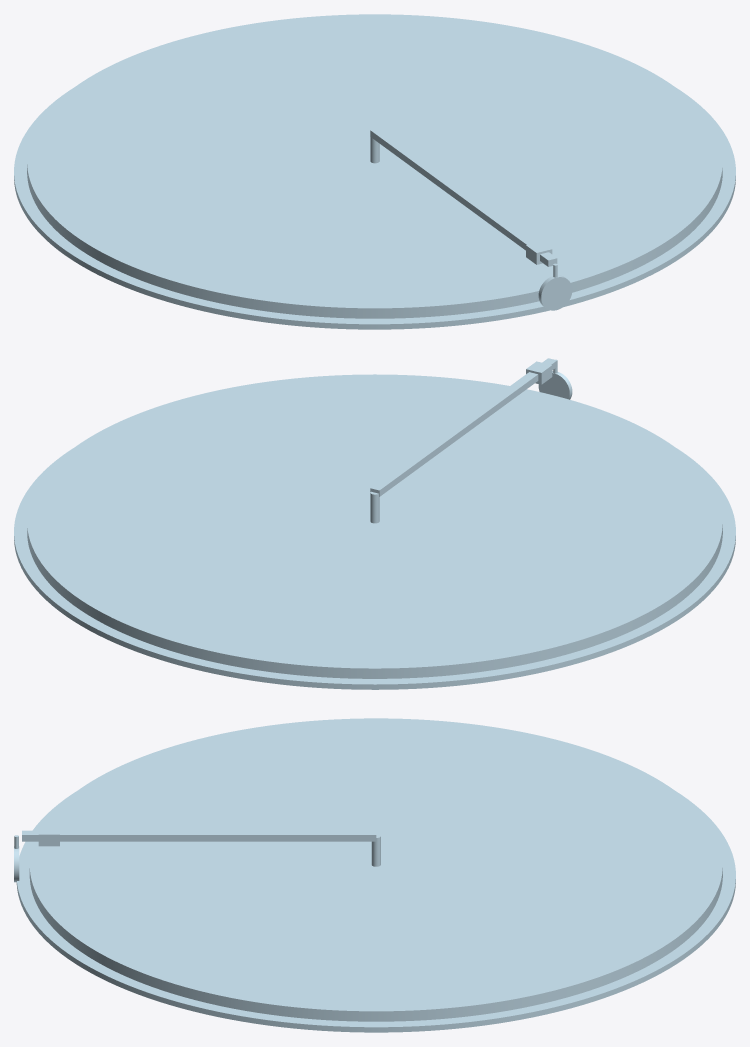
The model's file is agrokruh_bed.glb.
The picture shows the model from 3 angles, top to bottom: view 1: azimuth 30°, elevation 25°; view 2: azimuth 150°, elevation 25°; view 3: azimuth 270°, elevation 25°; orthographic projection.
Parts seen in each view (by area): view 1: Agrokruh crop pad, Agrokruh soil bed, Agrokruh arm (×2); view 2: Agrokruh crop pad, Agrokruh soil bed, Agrokruh arm (×2); view 3: Agrokruh crop pad, Agrokruh soil bed, Agrokruh arm.
Boxes of the visible parts, box(x1,y1,x2,y2) form: Agrokruh crop pad: box(27, 14, 722, 318); Agrokruh soil bed: box(14, 88, 735, 329); Agrokruh arm (×2): box(370, 128, 572, 310); Agrokruh crop pad: box(27, 374, 722, 678); Agrokruh soil bed: box(14, 448, 735, 689); Agrokruh arm (×2): box(370, 358, 572, 496); Agrokruh crop pad: box(29, 718, 722, 1021); Agrokruh soil bed: box(16, 792, 735, 1032); Agrokruh arm: box(22, 830, 376, 841).
Bounding box in the file's own units: 22 × 1.68 × 22.08.
